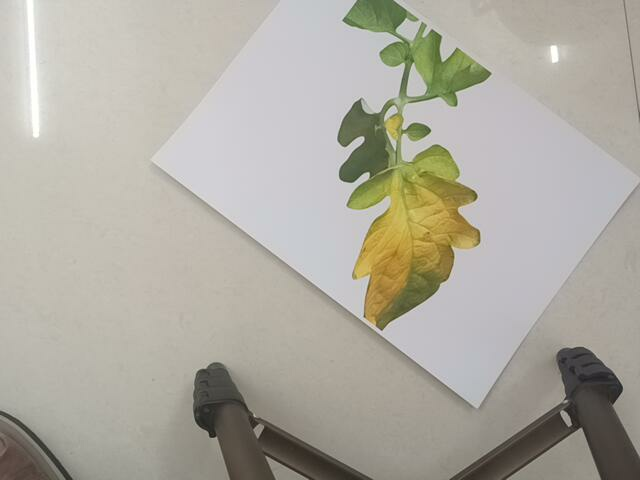Tomamto_Yellow_Disease: (322, 1, 514, 336)
